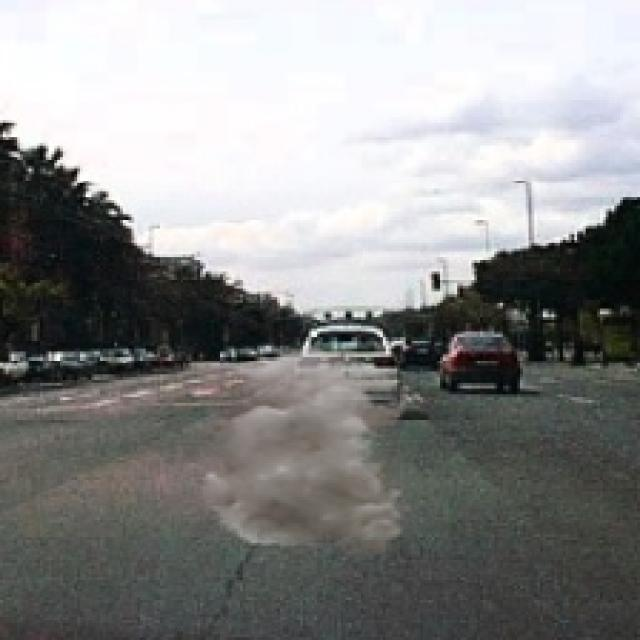Smoke: (172, 346, 414, 558)
